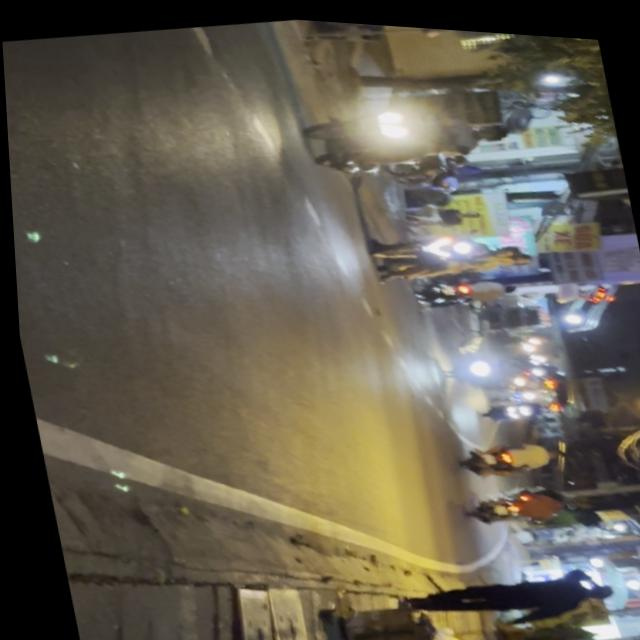helmet: (471, 113, 507, 139)
licenseplate: (300, 80, 514, 192)
